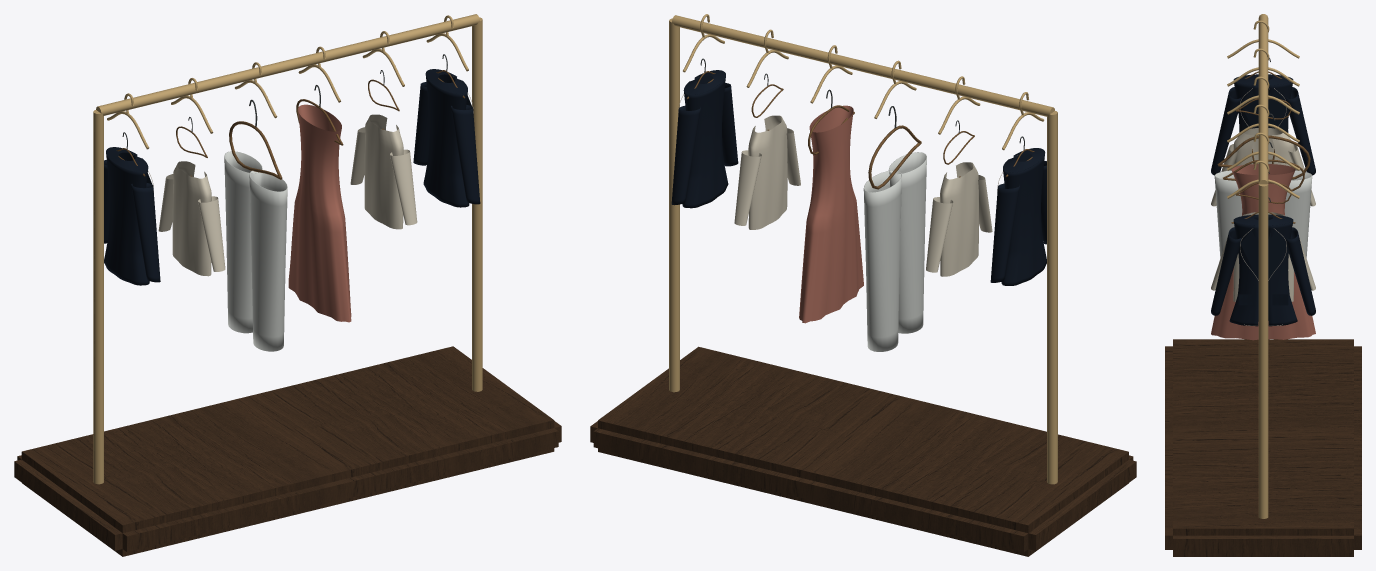
The model's file is fashion_rail.glb.
The picture shows the model from 3 angles, left to right: view 1: azimuth 30°, elevation 25°; view 2: azimuth 150°, elevation 25°; view 3: azimuth 270°, elevation 25°; orthographic projection. The views are drawn at different scales.
Visible parts, largest first — view 1: fashion_rail_CC0_Smoked_walnut, fashion_rail_Satin_champagne, fashion_rail_Woven_4.001, fashion_rail_Woven_3.001, fashion_rail_Woven_navy_suiting.001, fashion_rail_Woven_navy_suiting, fashion_rail_Woven_1.005, fashion_rail_Woven_1.006; view 2: fashion_rail_CC0_Smoked_walnut, fashion_rail_Satin_champagne, fashion_rail_Woven_4.001, fashion_rail_Woven_3.001, fashion_rail_Woven_navy_suiting.001, fashion_rail_Woven_navy_suiting, fashion_rail_Woven_1.006, fashion_rail_Woven_1.005; view 3: fashion_rail_CC0_Smoked_walnut, fashion_rail_Woven_navy_suiting.001, fashion_rail_Satin_champagne, fashion_rail_Woven_3.001, fashion_rail_Woven_navy_suiting, fashion_rail_Woven_4.001, fashion_rail_Woven_1.005, fashion_rail_Woven_1.006, fashion_rail_CC0_Oak_veneer.007, fashion_rail_CC0_Oak_veneer.008.
Part boxes in pixels (x1,y1,x2,y2): fashion_rail_CC0_Smoked_walnut: (14, 346, 561, 556); fashion_rail_Satin_champagne: (93, 14, 482, 484); fashion_rail_Woven_4.001: (224, 151, 287, 351); fashion_rail_Woven_3.001: (288, 104, 351, 322); fashion_rail_Woven_navy_suiting.001: (413, 69, 480, 207); fashion_rail_Woven_navy_suiting: (104, 147, 160, 285); fashion_rail_Woven_1.005: (158, 161, 225, 276); fashion_rail_Woven_1.006: (350, 114, 417, 229); fashion_rail_CC0_Smoked_walnut: (590, 346, 1136, 556); fashion_rail_Satin_champagne: (669, 14, 1057, 484); fashion_rail_Woven_4.001: (863, 152, 926, 351); fashion_rail_Woven_3.001: (799, 105, 863, 323); fashion_rail_Woven_navy_suiting.001: (671, 70, 738, 208); fashion_rail_Woven_navy_suiting: (990, 148, 1046, 285); fashion_rail_Woven_1.006: (734, 115, 800, 229); fashion_rail_Woven_1.005: (926, 162, 992, 276); fashion_rail_CC0_Smoked_walnut: (1165, 339, 1361, 556); fashion_rail_Woven_navy_suiting.001: (1211, 214, 1315, 326); fashion_rail_Satin_champagne: (1227, 14, 1299, 518); fashion_rail_Woven_3.001: (1211, 164, 1315, 340); fashion_rail_Woven_navy_suiting: (1211, 74, 1315, 175); fashion_rail_Woven_4.001: (1214, 170, 1312, 257); fashion_rail_Woven_1.005: (1211, 128, 1315, 206); fashion_rail_Woven_1.006: (1211, 212, 1315, 301); fashion_rail_CC0_Oak_veneer.007: (1217, 135, 1310, 179); fashion_rail_CC0_Oak_veneer.008: (1223, 159, 1304, 191).
Bounding box in the file's own units: 2.07 × 1.83 × 0.88.
Materials: 22 (9 with a texture image).
